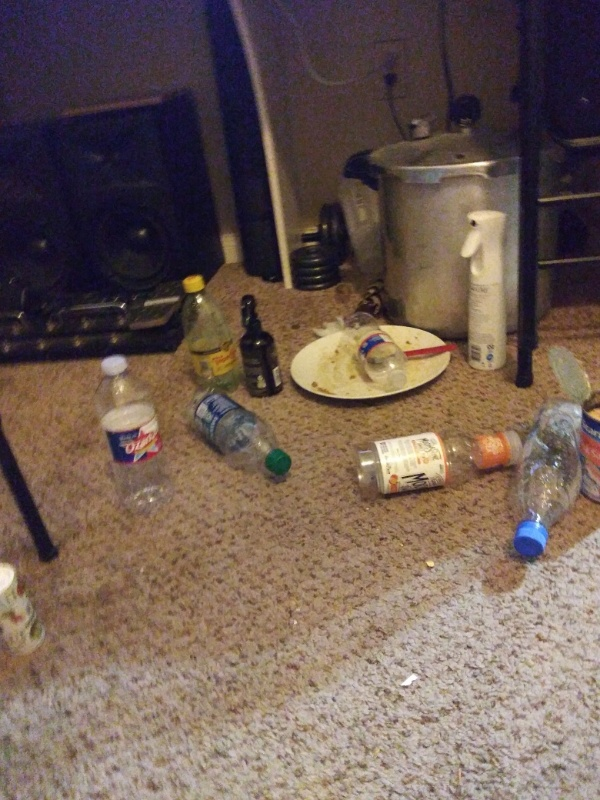bottle: (347, 419, 529, 505), (88, 350, 178, 516), (507, 392, 592, 563), (182, 384, 296, 481), (172, 271, 250, 396), (339, 309, 413, 397)
